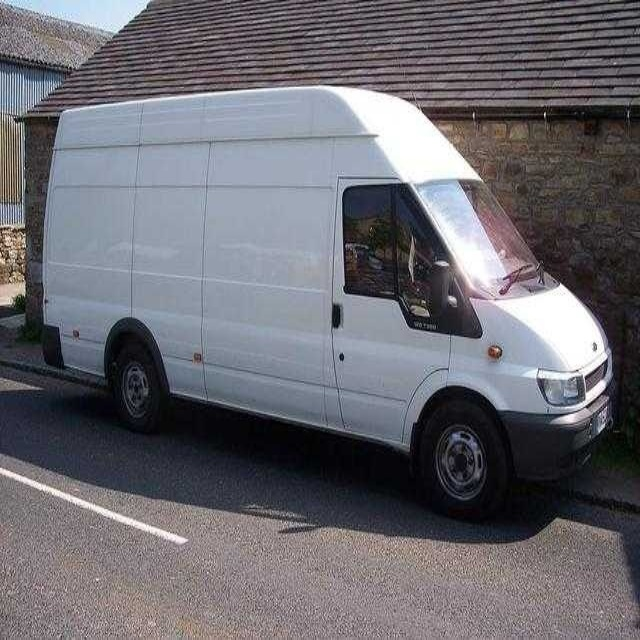Van: (41, 85, 613, 522)
